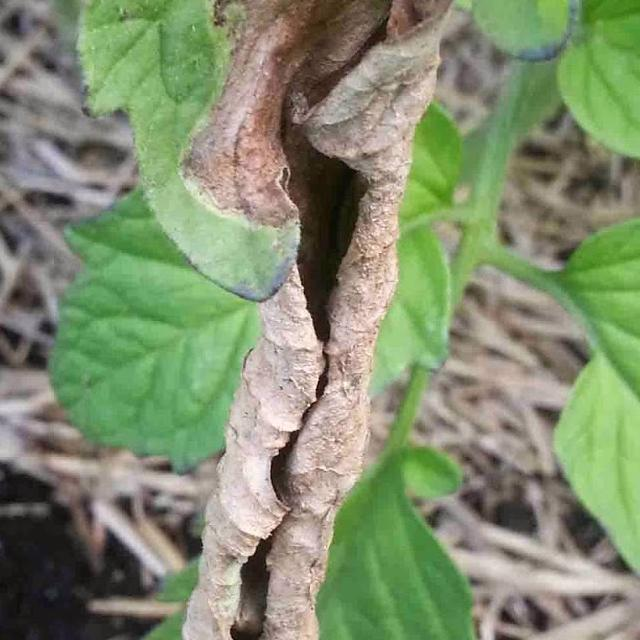Tomato leaf late blight: (84, 0, 552, 640)
